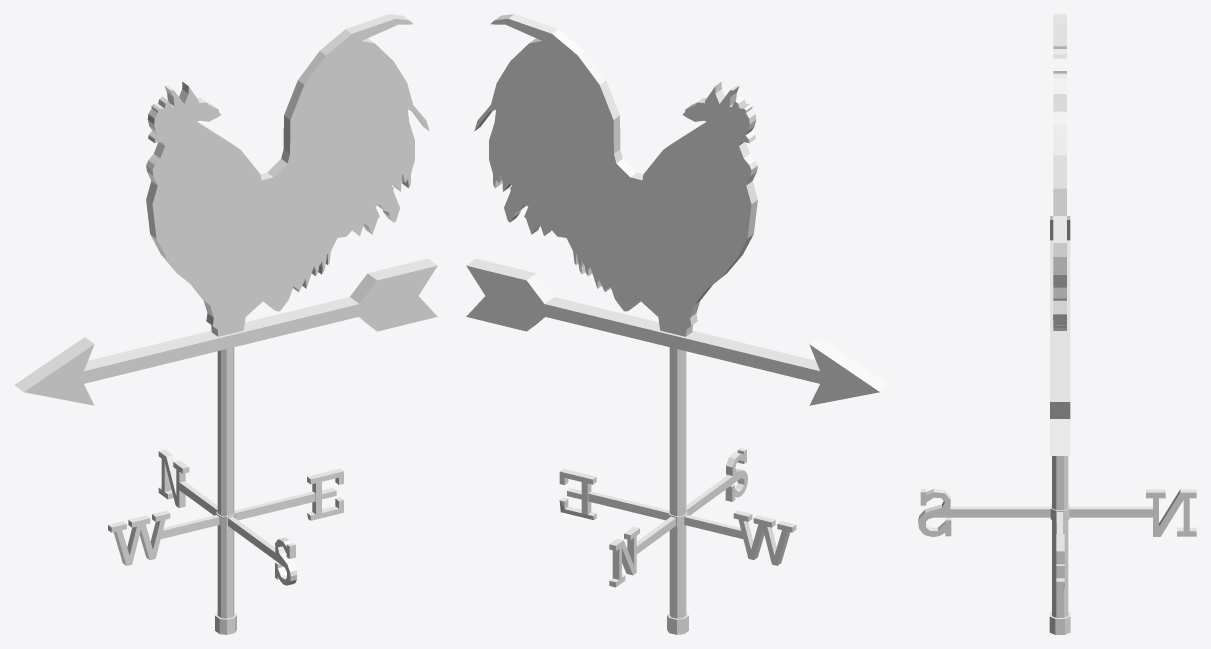
The model's file is Prop_Weathervane_02.glb.
3 views of the same model, side by side, from view 1: azimuth 30°, elevation 25°; view 2: azimuth 150°, elevation 25°; view 3: azimuth 270°, elevation 25° (orthographic). The views are drawn at different scales.
Visible parts, largest first — view 1: Prop_Weathervane_Top_02, Prop_Weathervane_02; view 2: Prop_Weathervane_Top_02, Prop_Weathervane_02; view 3: Prop_Weathervane_02, Prop_Weathervane_Top_02.
Part boxes in pixels (bbox=[...]): Prop_Weathervane_Top_02: bbox=[14, 14, 437, 405]; Prop_Weathervane_02: bbox=[108, 347, 343, 634]; Prop_Weathervane_Top_02: bbox=[466, 14, 889, 405]; Prop_Weathervane_02: bbox=[559, 347, 796, 634]; Prop_Weathervane_02: bbox=[918, 456, 1196, 634]; Prop_Weathervane_Top_02: bbox=[1050, 14, 1070, 455].
Size of the model in its own units: 1.04 by 1.38 by 0.5747.
1 material, 1 textured.
